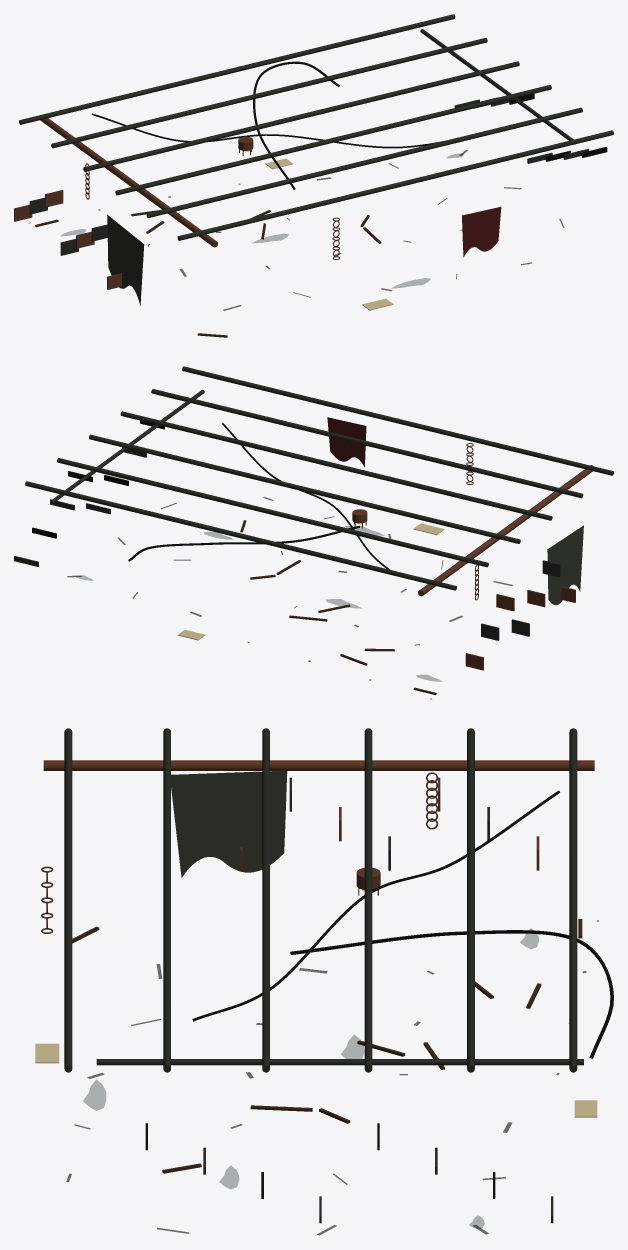
The model's file is dz_shelter_atmosphere_premium.glb.
3 views of the same model, one above another, from view 1: azimuth 30°, elevation 25°; view 2: azimuth 150°, elevation 25°; view 3: azimuth 270°, elevation 25° (orthographic). The views are drawn at different scales.
Parts seen in each view (by area): view 1: ceiling cross pipe z 0.8, ceiling cross pipe z 2.25, ceiling cross pipe z 5.15, ceiling cross pipe z 6.55, ceiling cross pipe z 3.7, ceiling cross pipe z 7.95, large torn green tarp left wall, small red torn quarantine rag, left long steam pipe, right thin electric conduit, sagging black cable one, sagging radio cable thick; view 2: ceiling cross pipe z 7.95, ceiling cross pipe z 3.7, ceiling cross pipe z 5.15, ceiling cross pipe z 0.8, ceiling cross pipe z 2.25, ceiling cross pipe z 6.55, large torn green tarp left wall, left long steam pipe, small red torn quarantine rag, right thin electric conduit, sagging radio cable thick; view 3: large torn green tarp left wall, left long steam pipe, right thin electric conduit, ceiling cross pipe z 3.7, ceiling cross pipe z 7.95, ceiling cross pipe z 0.8, ceiling cross pipe z 6.55, ceiling cross pipe z 2.25, ceiling cross pipe z 5.15, sagging radio cable thick, sagging black cable one.
Part boxes in pixels (x1,y1,x2,y2): ceiling cross pipe z 0.8: (19, 14, 455, 124); ceiling cross pipe z 2.25: (51, 38, 487, 148); ceiling cross pipe z 5.15: (115, 85, 551, 195); ceiling cross pipe z 6.55: (146, 107, 582, 217); ceiling cross pipe z 3.7: (83, 61, 519, 171); ceiling cross pipe z 7.95: (177, 130, 613, 240); large torn green tarp left wall: (107, 215, 144, 305); small red torn quarantine rag: (462, 207, 501, 257); left long steam pipe: (40, 118, 217, 247); right thin electric conduit: (420, 29, 573, 140); sagging black cable one: (91, 113, 441, 148); sagging radio cable thick: (253, 61, 339, 189); ceiling cross pipe z 7.95: (182, 366, 613, 475); ceiling cross pipe z 3.7: (89, 434, 520, 543); ceiling cross pipe z 5.15: (120, 411, 552, 520); ceiling cross pipe z 0.8: (25, 481, 456, 590); ceiling cross pipe z 2.25: (57, 458, 488, 567); ceiling cross pipe z 6.55: (151, 389, 583, 498); large torn green tarp left wall: (547, 525, 583, 605); left long steam pipe: (418, 465, 593, 596); small red torn quarantine rag: (327, 417, 366, 467); right thin electric conduit: (50, 390, 204, 504); sagging radio cable thick: (128, 525, 359, 561); large torn green tarp left wall: (171, 771, 287, 877); left long steam pipe: (43, 760, 594, 770); right thin electric conduit: (96, 1059, 583, 1065); ceiling cross pipe z 3.7: (364, 728, 372, 1072); ceiling cross pipe z 7.95: (64, 728, 72, 1072); ceiling cross pipe z 0.8: (569, 728, 577, 1072); ceiling cross pipe z 6.55: (163, 728, 170, 1072); ceiling cross pipe z 2.25: (467, 728, 474, 1072); ceiling cross pipe z 5.15: (262, 728, 269, 1072); sagging radio cable thick: (290, 930, 613, 1058); sagging black cable one: (192, 790, 559, 1021).
Bounding box in the file's own units: 12.23 × 2.81 × 8.5.
